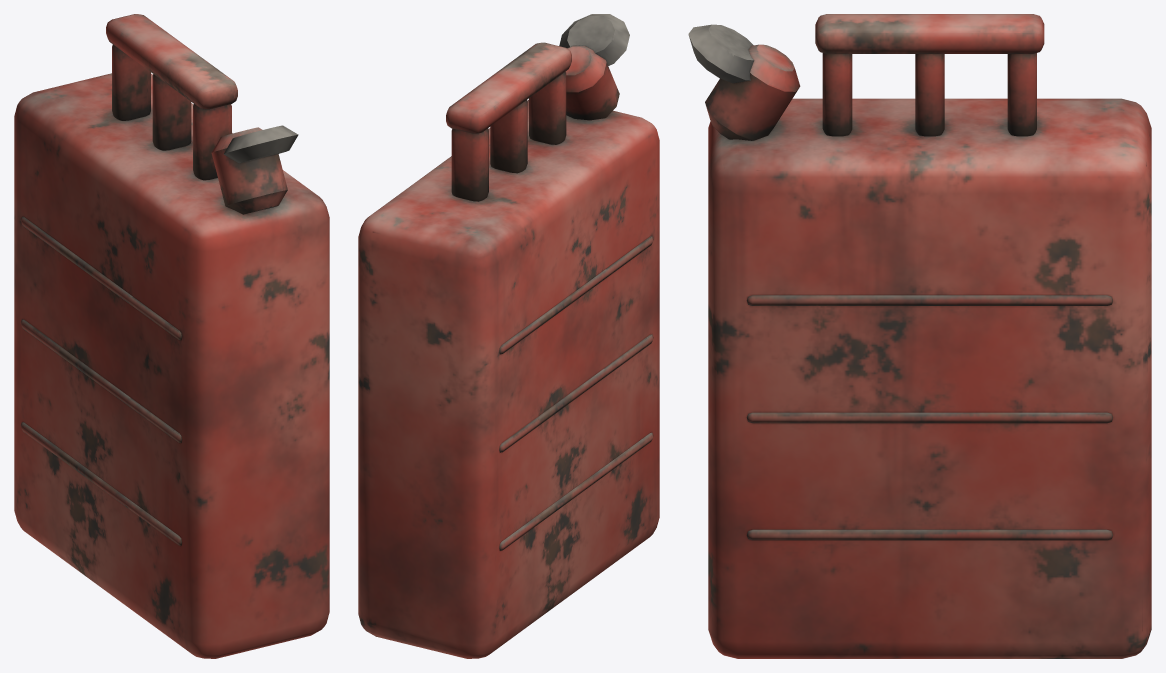
Rendered from fuel_can.fbx.
The picture shows the model from 3 angles, left to right: view 1: azimuth 30°, elevation 25°; view 2: azimuth 150°, elevation 25°; view 3: azimuth 270°, elevation 25°; orthographic projection. The views are drawn at different scales.
Visible parts, largest first — view 1: Body; view 2: Body; view 3: Body.
Part boxes in pixels (left/top/right/bottom): Body: left=14, top=14, right=329, bottom=658; Body: left=358, top=14, right=659, bottom=658; Body: left=688, top=14, right=1151, bottom=658.
Size of the model in its own units: 0.52 by 1.82 by 1.25.
Materials: 1 (1 with a texture image).
